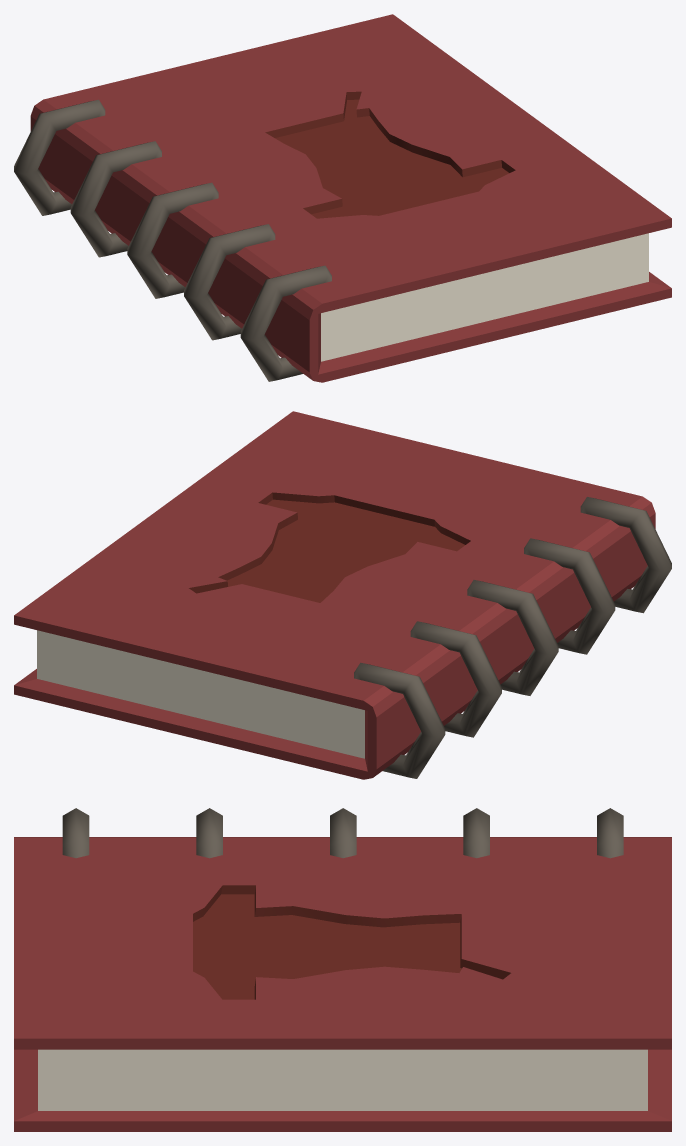
Rendered from HandBook.fbx.
3 renders of one model, top to bottom at view 1: azimuth 30°, elevation 25°; view 2: azimuth 150°, elevation 25°; view 3: azimuth 270°, elevation 25°, orthographic. The views are drawn at different scales.
Visible parts, largest first — view 1: Book, Spiral; view 2: Book, Spiral; view 3: Book, Spiral.
Boxes of the visible parts, x1,y1,x2,y2 form: Book: (30,14,671,382); Spiral: (14,99,331,381); Book: (14,411,655,779); Spiral: (354,497,671,778); Book: (14,837,671,1131); Spiral: (62,808,623,858).
Size of the model in its own units: 53.65 by 12.99 by 64.
